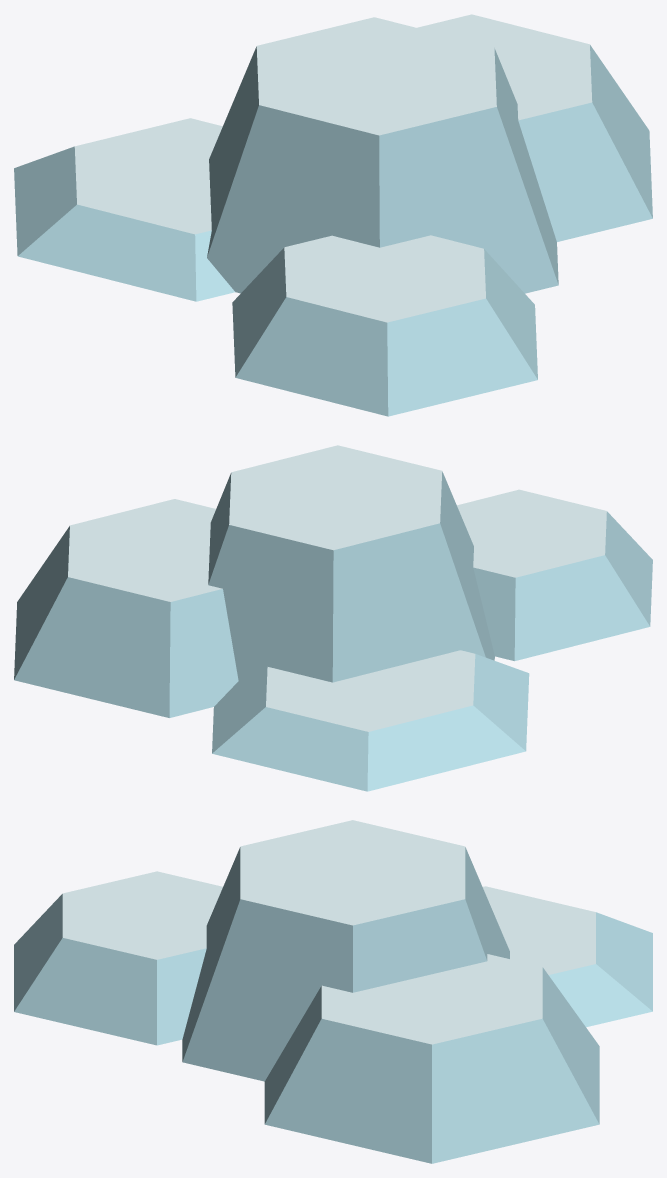
The model's file is d_kenney_rocaille_neige.glb.
3 views of the same model, one above another, from view 1: azimuth 30°, elevation 25°; view 2: azimuth 150°, elevation 25°; view 3: azimuth 270°, elevation 25° (orthographic). The views are drawn at different scales.
Visible parts, largest first — view 1: d_kenney_rocaille_neige; view 2: d_kenney_rocaille_neige; view 3: d_kenney_rocaille_neige.
Boxes of the visible parts, x1,y1,x2,y2 form: d_kenney_rocaille_neige: (14, 14, 652, 416); d_kenney_rocaille_neige: (14, 445, 652, 791); d_kenney_rocaille_neige: (14, 820, 652, 1163).
Size of the model in its own units: 0.6 by 0.155 by 0.6.
1 material, 1 textured.
